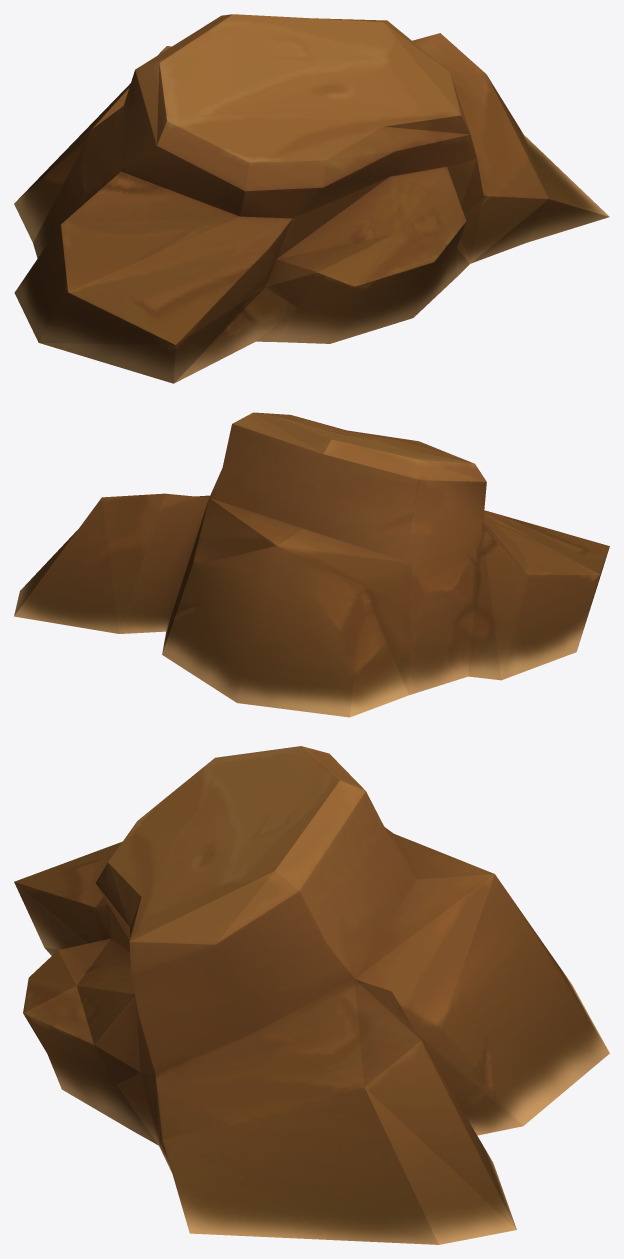
Rendered from difuchangjing_shitou08.FBX.
3 views of the same model, one above another, from view 1: azimuth 30°, elevation 25°; view 2: azimuth 150°, elevation 25°; view 3: azimuth 270°, elevation 25° (orthographic). The views are drawn at different scales.
Visible parts, largest first — view 1: difuchangjing_shitou08; view 2: difuchangjing_shitou08; view 3: difuchangjing_shitou08.
Boxes of the visible parts, bbox=[...] form: difuchangjing_shitou08: bbox=[14, 14, 609, 383]; difuchangjing_shitou08: bbox=[14, 412, 609, 717]; difuchangjing_shitou08: bbox=[14, 746, 609, 1244].
Size of the model in its own units: 342 by 132 by 260.
